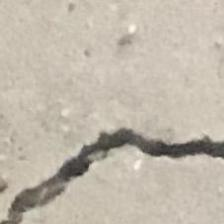Crack: (0, 123, 224, 208)
